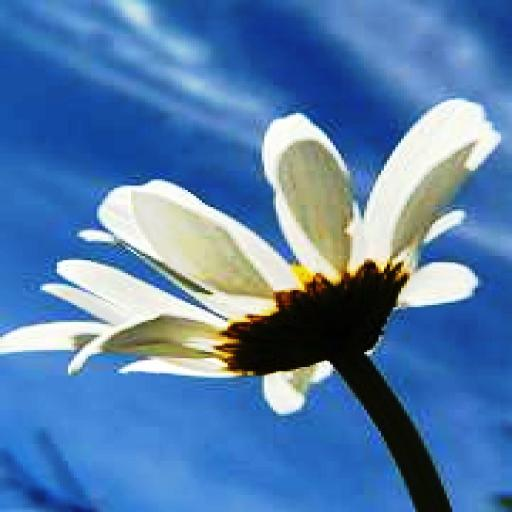daisy: (14, 124, 501, 365)
